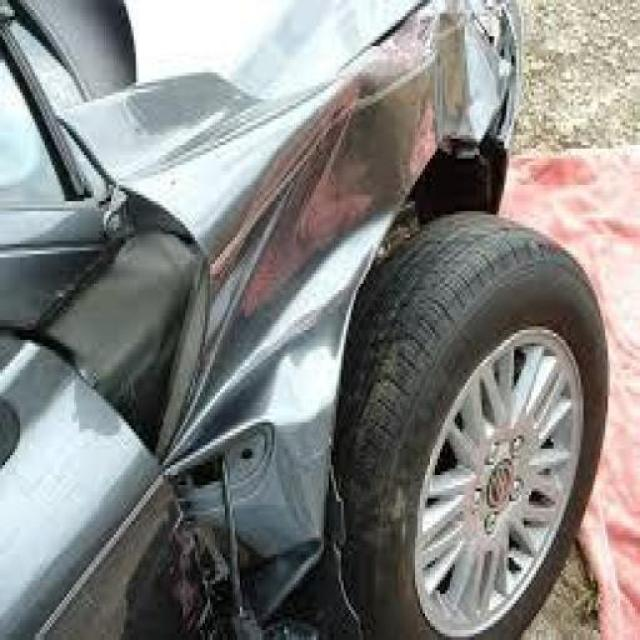crush: (9, 5, 530, 634)
